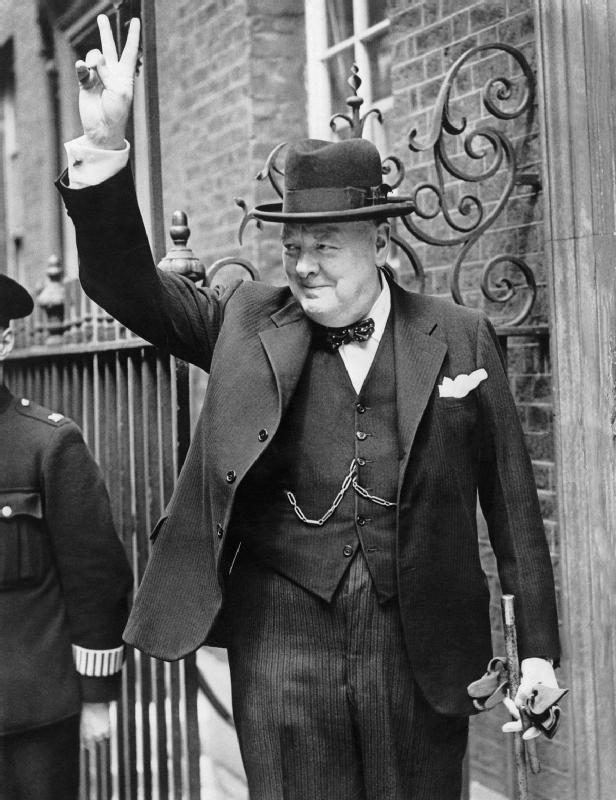peace_sign: (68, 5, 152, 150)
